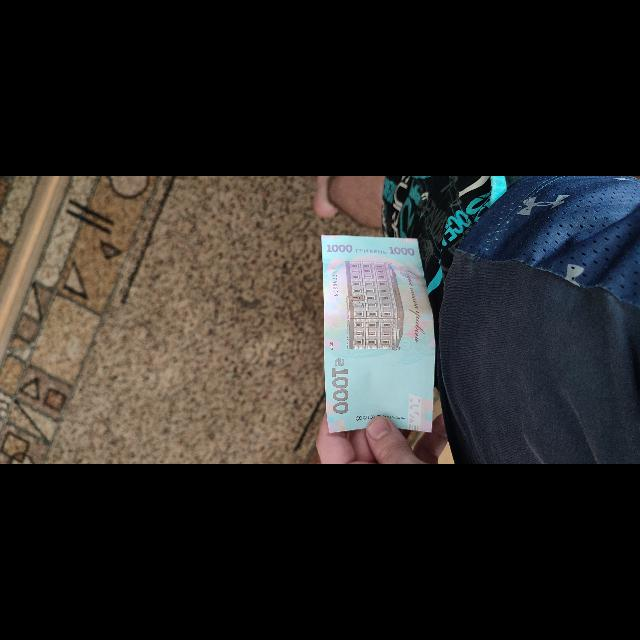1000uah: (321, 234, 433, 435)
